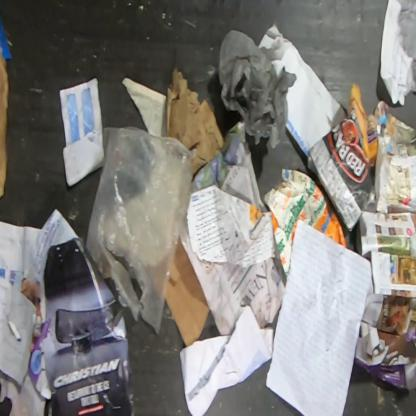cardboard: (262, 168, 347, 278), (166, 67, 224, 180), (166, 238, 210, 347)
soft_plastic: (84, 126, 196, 335), (219, 32, 296, 150)
